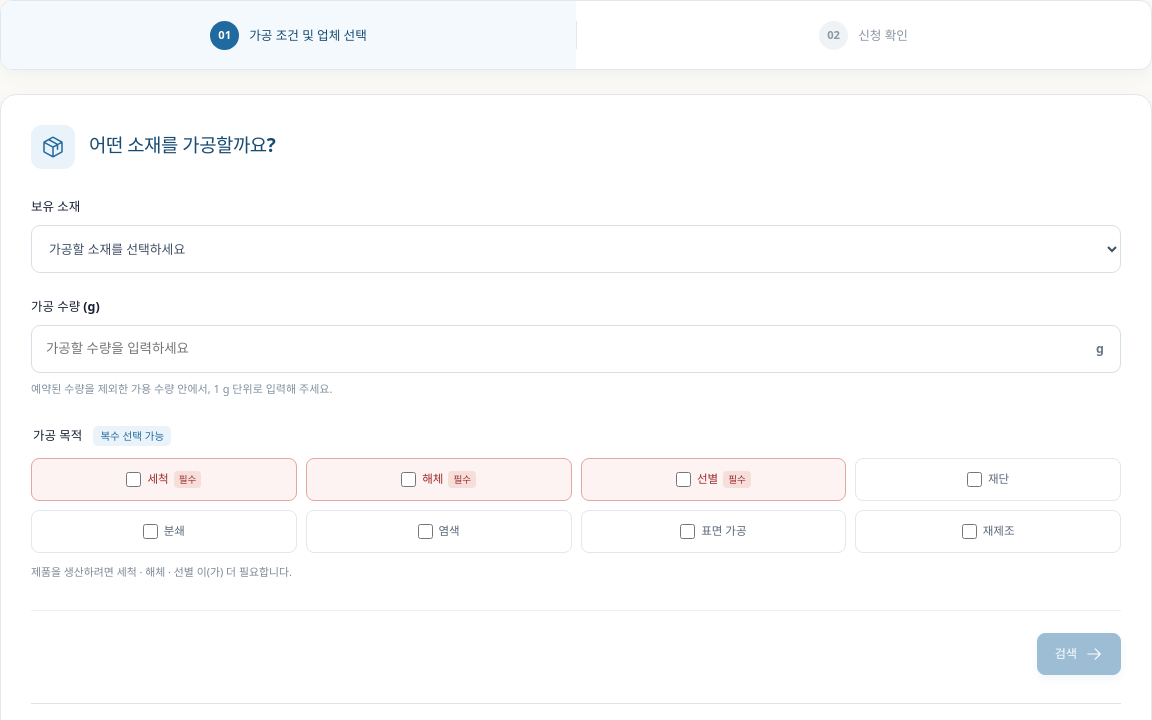
it: 조건 변경 후 기존 가공사 선택을 재사용하지 않는다
Select "폐데님 · 가공 전 · MAT-1 · 가용 800 g" in the dropdown labelled "보유 소재" at (576, 249), box [31,225,1121,273]
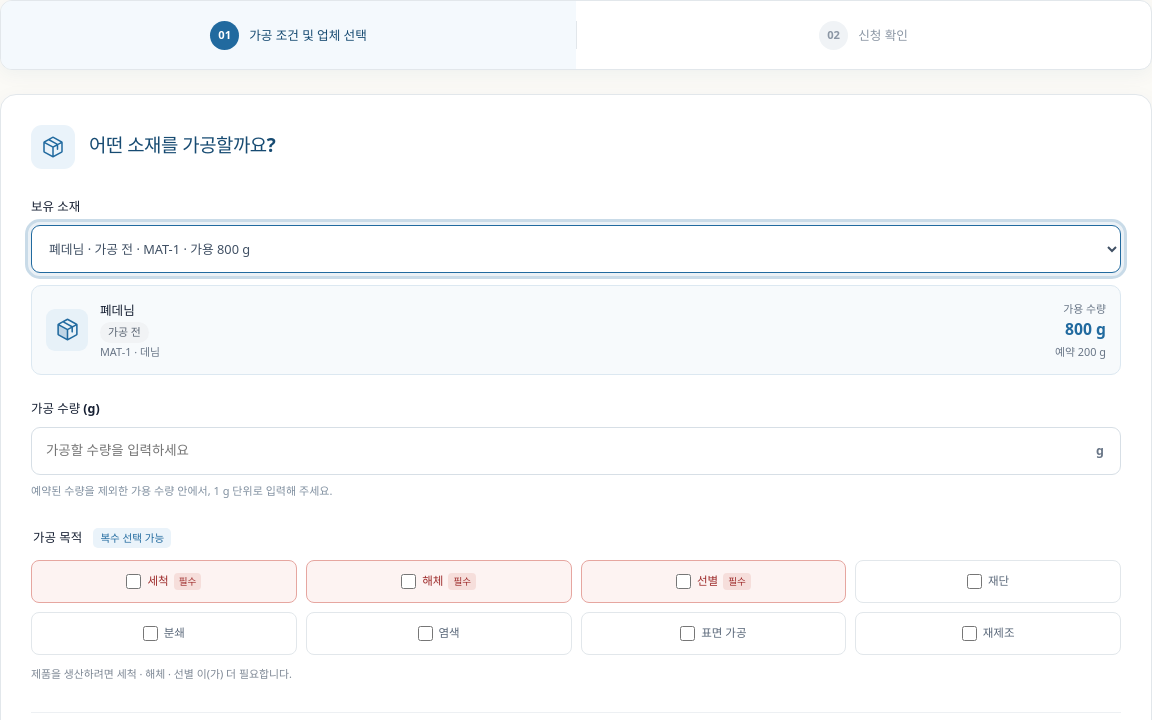
Type "500" into the field labelled "가공 수량 (g)" at (564, 451), box [32,428,1096,474]
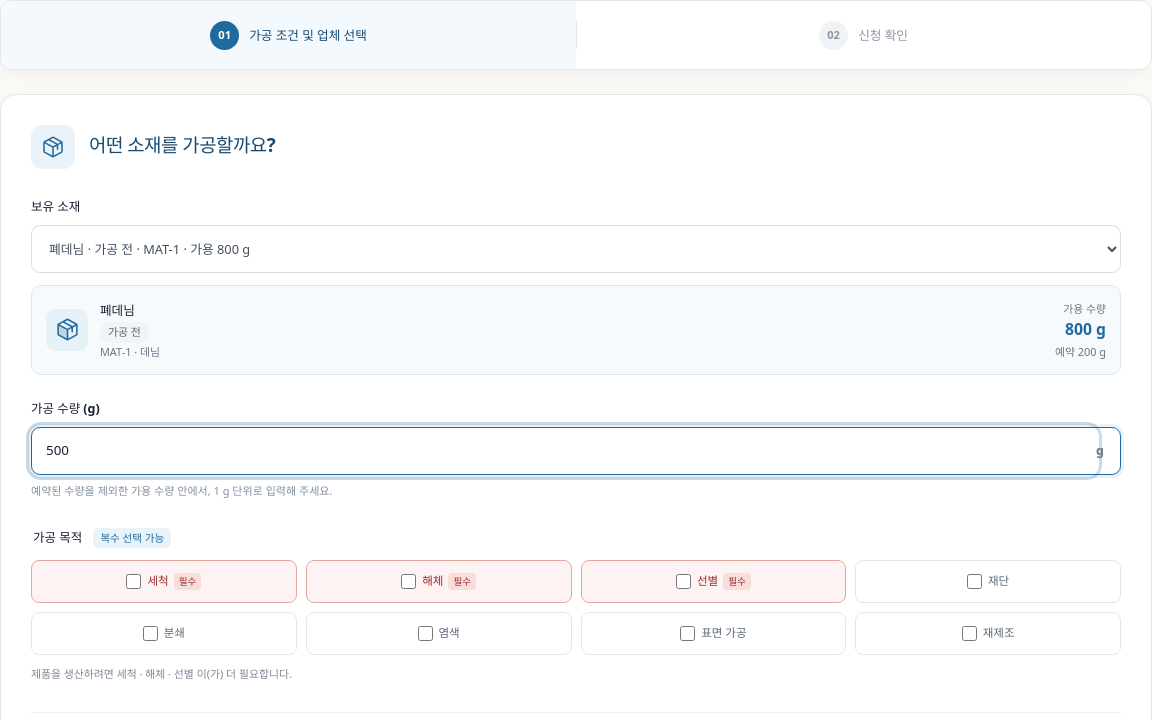
Click the checkbox labelled "세척" at (134, 581), box [126,574,141,589]
(page scrolled)
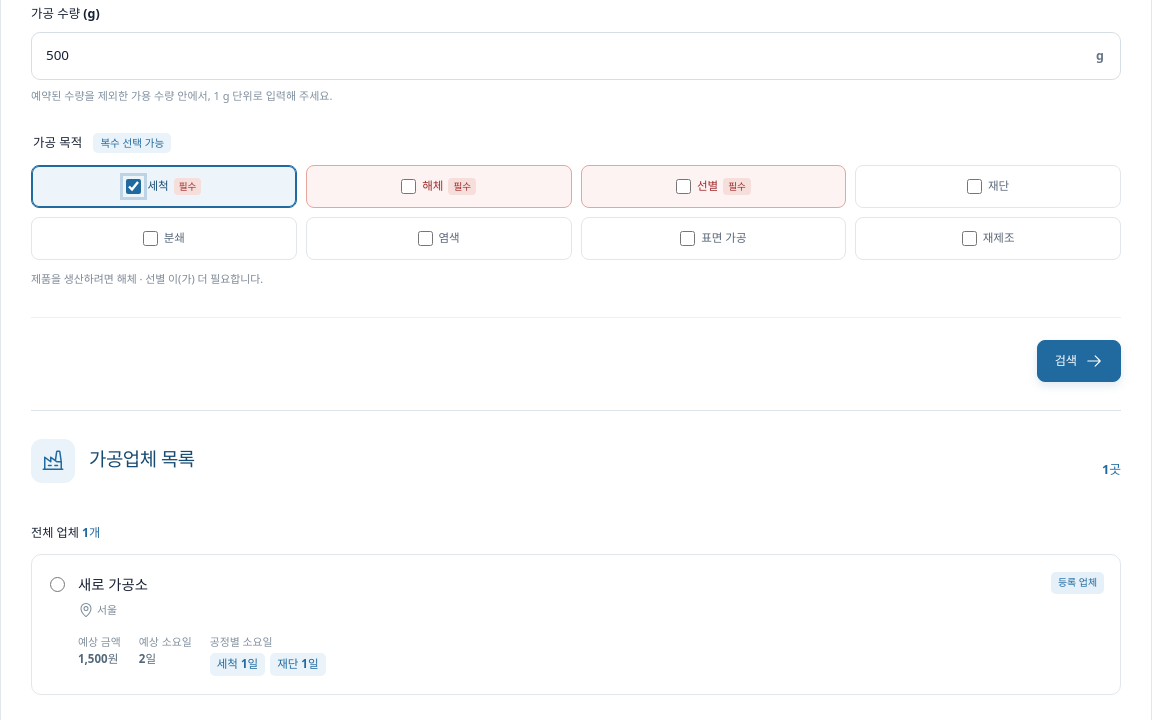
Click the button "검색" at (1079, 361), box [1037,340,1121,382]
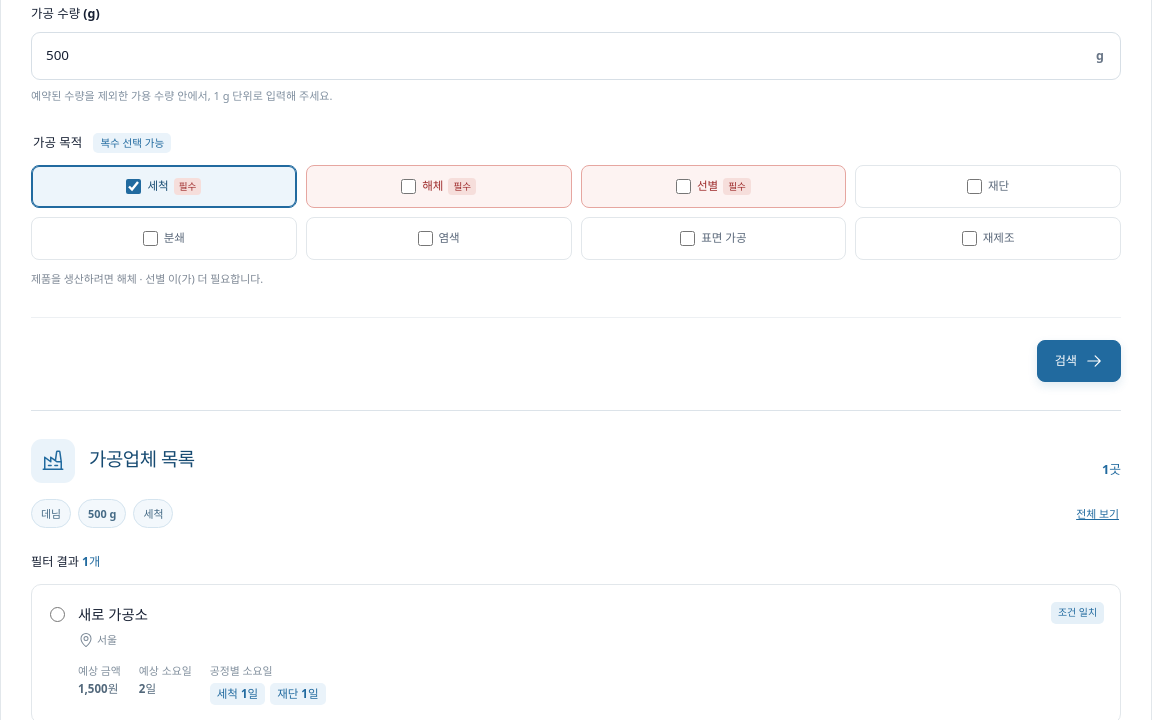
Click the radio button labelled "새로 가공소 서울 예상 금액 1,500원 예상 소요일 2일 공정별 소요일 세척 1일 재단 1일 조건 일치" at (58, 614), box [50,607,65,622]
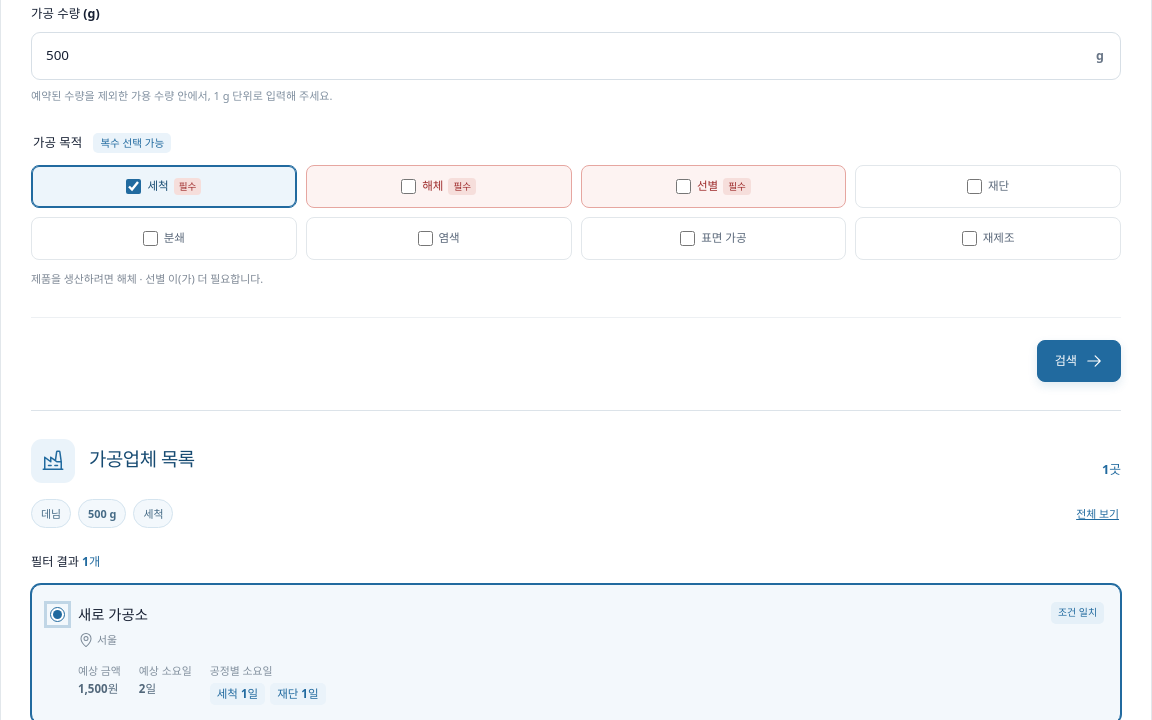
Click the checkbox labelled "재단" at (974, 186), box [967,179,982,194]
(page scrolled)
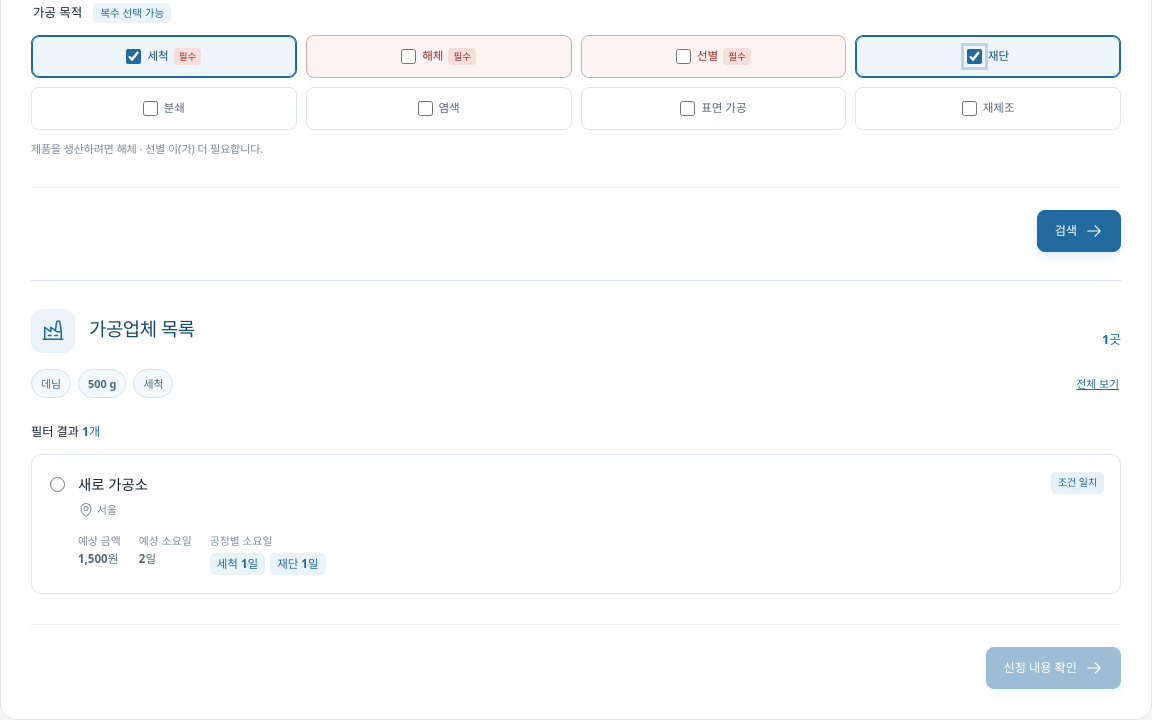
Expected: the button "신청 내용 확인" is disabled, [986,647,1121,689]
